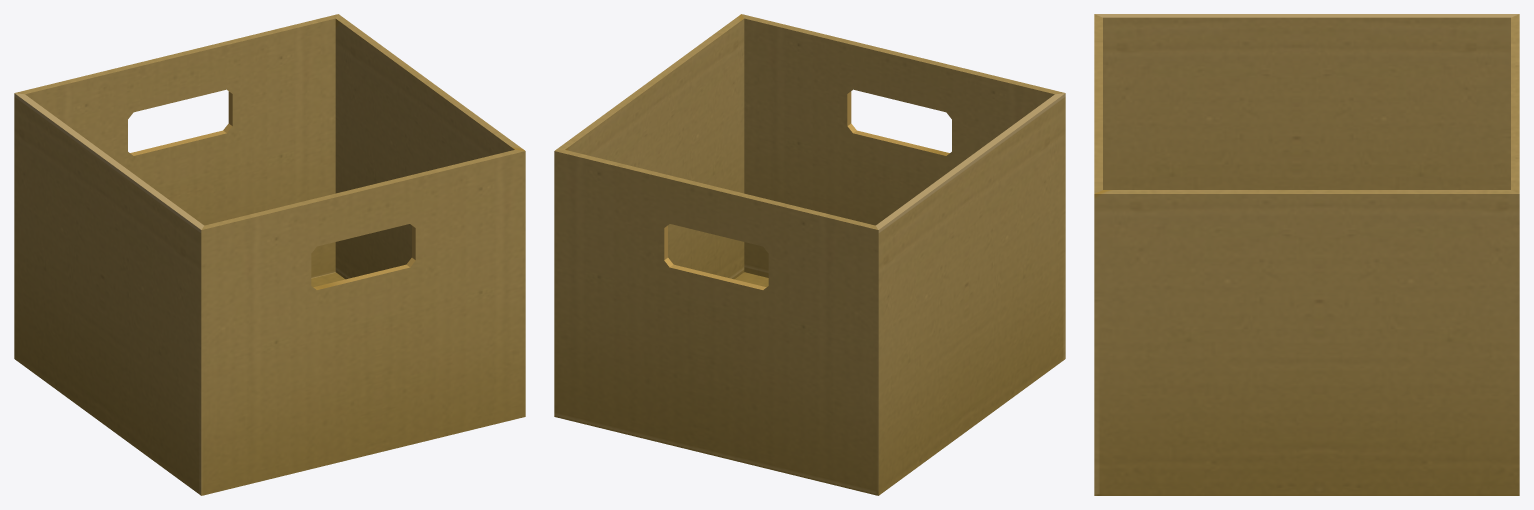
3 renders of one model, left to right at view 1: azimuth 30°, elevation 25°; view 2: azimuth 150°, elevation 25°; view 3: azimuth 270°, elevation 25°, orthographic. The views are drawn at different scales.
Parts seen in each view (by area): view 1: Box001; view 2: Box001; view 3: Box001.
Part boxes in pixels (x1,y1,x2,y2): Box001: [14, 14, 525, 495]; Box001: [554, 14, 1065, 495]; Box001: [1094, 14, 1519, 495].
Size of the model in its own units: 18.38 by 14.4 by 18.38.
1 material, 1 textured.
